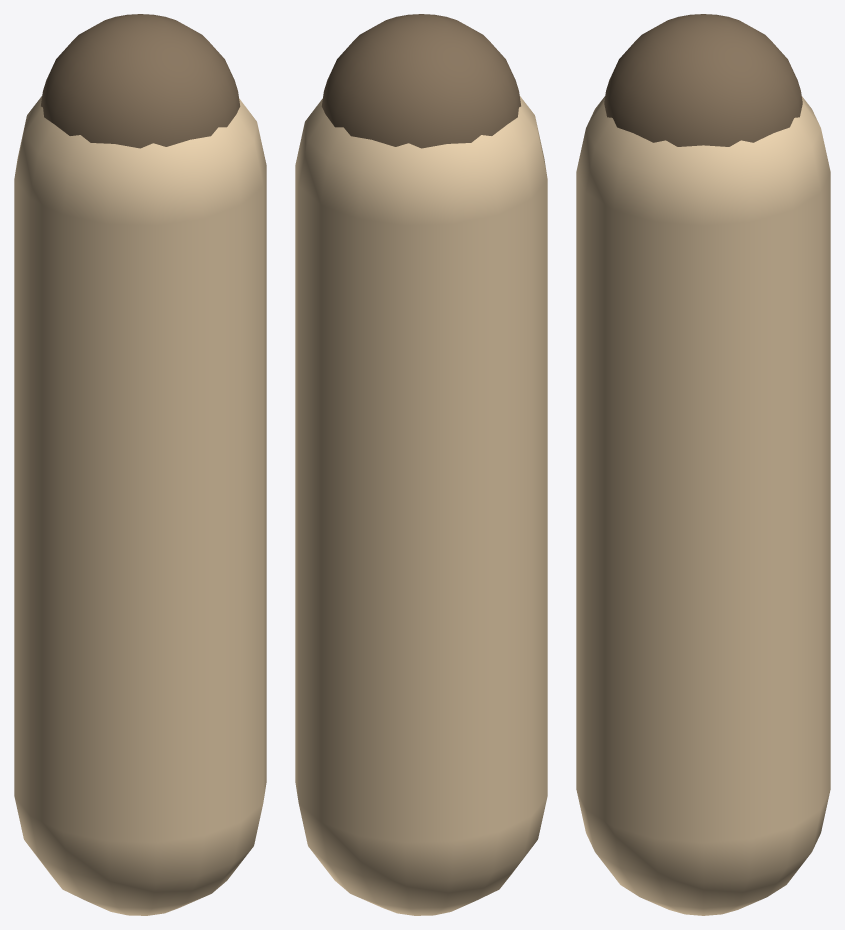
Rendered from doll_LowerLeg_L.glb.
3 views of the same model, side by side, from view 1: azimuth 30°, elevation 25°; view 2: azimuth 150°, elevation 25°; view 3: azimuth 270°, elevation 25° (orthographic).
Parts seen in each view (by area): view 1: LowerLeg_L; view 2: LowerLeg_L; view 3: LowerLeg_L.
Part boxes in pixels (x1=…): LowerLeg_L: x1=14, y1=14, x2=266, y2=915; LowerLeg_L: x1=295, y1=14, x2=547, y2=915; LowerLeg_L: x1=576, y1=14, x2=830, y2=915.
Bounding box in the file's own units: 0.126 × 0.4815 × 0.126.
